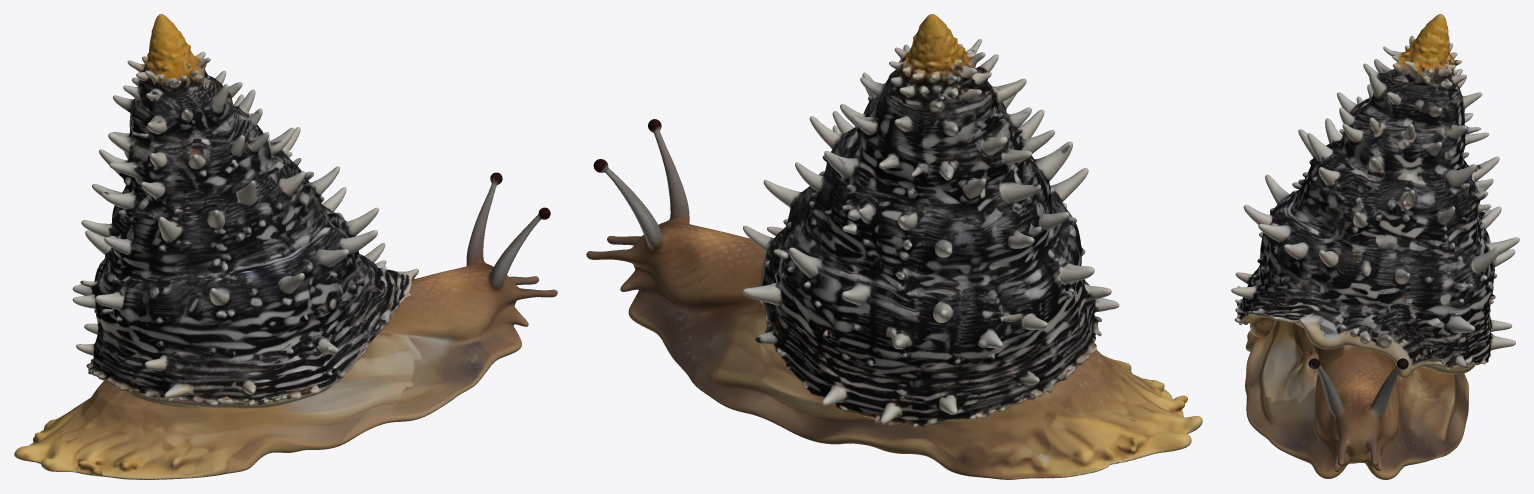
Rendered from pyr_c.glb.
3 renders of one model, left to right at view 1: azimuth 30°, elevation 25°; view 2: azimuth 150°, elevation 25°; view 3: azimuth 270°, elevation 25°, orthographic. The views are drawn at different scales.
Visible parts, largest first — view 1: tripo_node_bd315c1a-2227-4506-a2e5-efec32bac8bc; view 2: tripo_node_bd315c1a-2227-4506-a2e5-efec32bac8bc; view 3: tripo_node_bd315c1a-2227-4506-a2e5-efec32bac8bc.
Boxes of the visible parts, box(x1,y1,x2,y2) form: tripo_node_bd315c1a-2227-4506-a2e5-efec32bac8bc: box(14, 14, 557, 479); tripo_node_bd315c1a-2227-4506-a2e5-efec32bac8bc: box(586, 14, 1202, 479); tripo_node_bd315c1a-2227-4506-a2e5-efec32bac8bc: box(1231, 14, 1519, 479).
Bounding box in the file's own units: 1 × 0.709 × 0.5128.
Materials: 1 (1 with a texture image).
